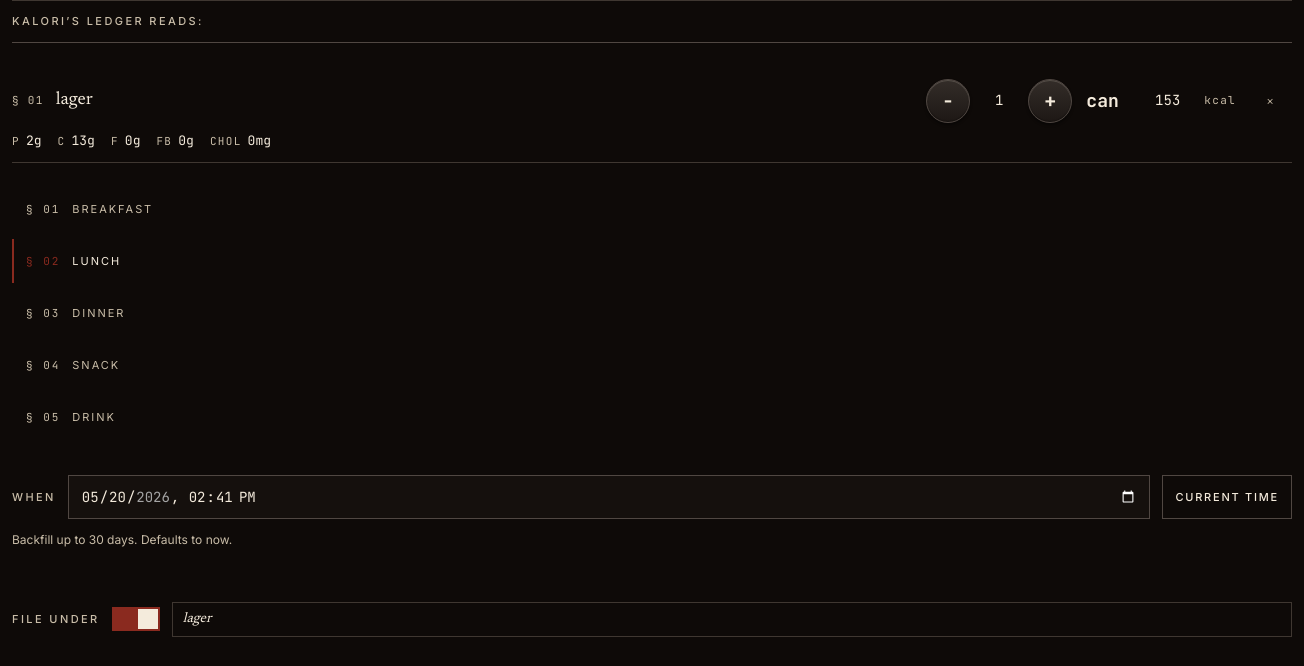
Scenario: <ConfirmationScreen /> AI alcohol detected label › renders the read-only Detected label when meal=drink and an item is_alcoholic=true
Click the radio button with test id "confirmation-meal-drink" at [71, 417], box 26,410 -> 116,424
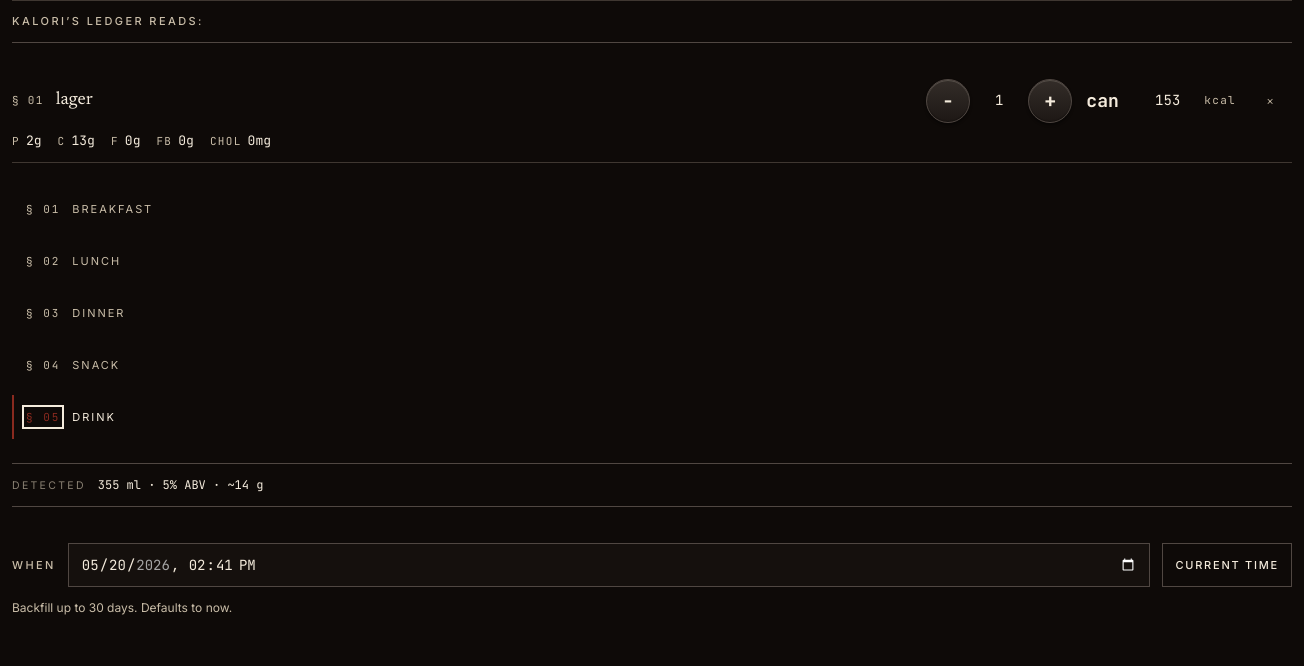
Now the element with test id "confirmation-alcohol-detected" reads "Detected 355 ml · 5% ABV · ~14 g", box 98,477 -> 263,493
